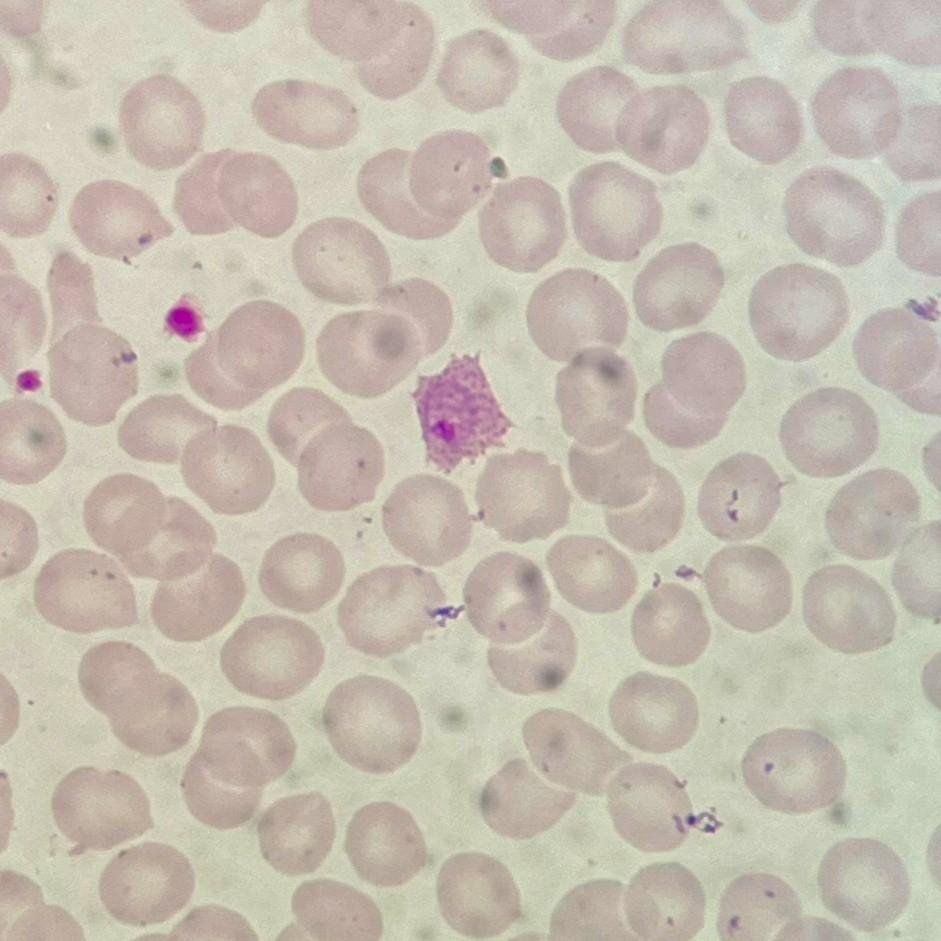Infected: (406, 347, 521, 474)
Uninfected: (82, 472, 215, 586), (75, 641, 197, 756), (183, 708, 294, 812), (312, 307, 426, 401), (647, 329, 744, 438), (528, 269, 631, 369), (319, 675, 422, 774), (780, 169, 881, 268), (337, 565, 444, 658), (46, 321, 141, 424), (748, 262, 848, 359), (520, 707, 626, 796), (50, 765, 155, 854), (33, 548, 139, 636), (566, 162, 661, 260), (179, 422, 278, 516), (778, 386, 878, 479), (219, 613, 323, 701), (471, 449, 568, 543), (147, 550, 246, 642), (610, 82, 710, 173), (292, 418, 388, 512), (621, 1, 744, 74), (852, 306, 940, 408), (741, 726, 843, 814), (460, 551, 554, 646), (290, 216, 392, 303), (809, 67, 903, 161), (405, 131, 499, 225), (379, 474, 474, 566), (822, 469, 916, 561), (70, 177, 170, 263), (815, 837, 906, 931), (212, 299, 307, 389), (551, 348, 641, 443), (799, 564, 894, 654), (630, 242, 724, 332), (696, 451, 788, 542), (343, 8, 436, 98), (604, 762, 700, 849), (477, 175, 565, 269), (564, 430, 659, 516), (701, 544, 792, 633), (206, 150, 298, 238), (117, 74, 205, 165), (483, 607, 576, 693), (607, 671, 701, 756), (479, 755, 575, 838), (96, 843, 191, 926), (489, 1, 618, 62), (544, 533, 637, 615), (556, 66, 643, 153), (252, 79, 358, 150), (258, 531, 347, 615), (599, 468, 684, 555), (253, 791, 340, 874), (265, 384, 354, 465), (435, 853, 520, 937), (355, 150, 434, 240), (117, 393, 213, 467), (629, 582, 713, 666), (343, 801, 427, 885), (723, 75, 803, 162), (434, 32, 518, 112), (621, 864, 706, 940), (376, 277, 452, 360), (184, 341, 266, 414), (284, 879, 381, 939), (1, 398, 68, 484), (716, 872, 799, 940), (813, 1, 904, 60), (548, 878, 635, 939), (45, 251, 102, 342), (891, 524, 941, 619), (1, 153, 58, 236), (883, 98, 939, 180), (893, 188, 941, 278)
